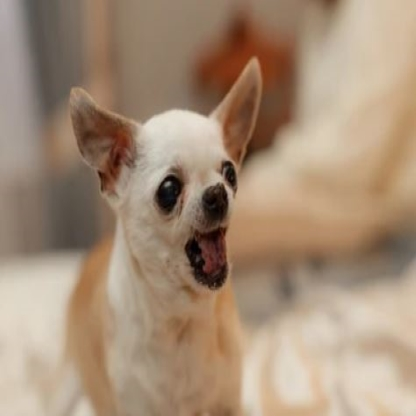chihuahua: (62, 56, 275, 416)
